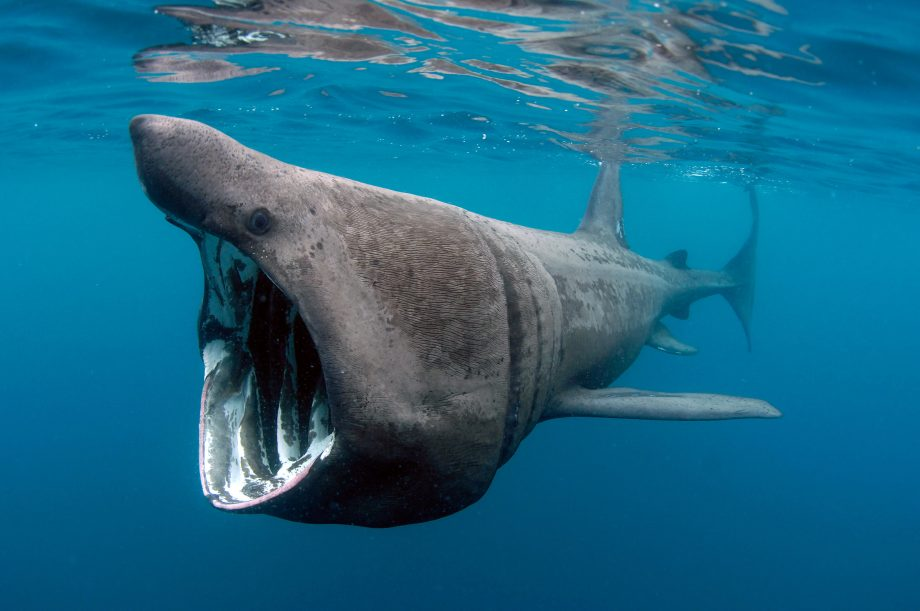Shark: (129, 116, 781, 523)
